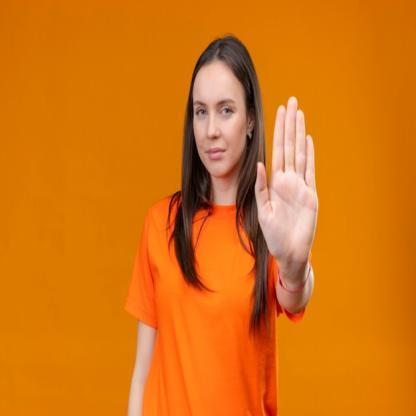stop: (255, 91, 318, 268)
